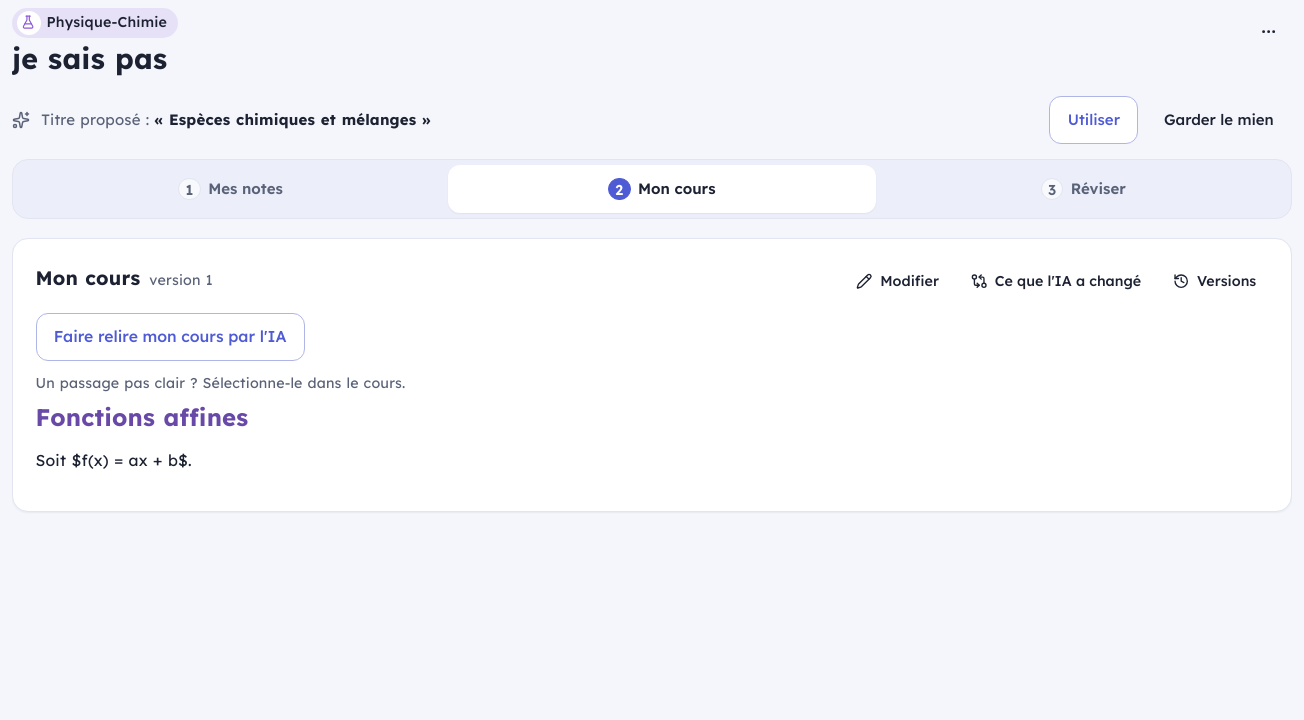
ChapterView › propose le titre trouvé par la mise au propre
Check: the message with class "title-proposal" shows "Espèces chimiques et mélanges", box [154, 110, 431, 129]
Step 1. Click the button with class "secondary" showing "Utiliser" → (1094, 120), box [1049, 96, 1138, 144]
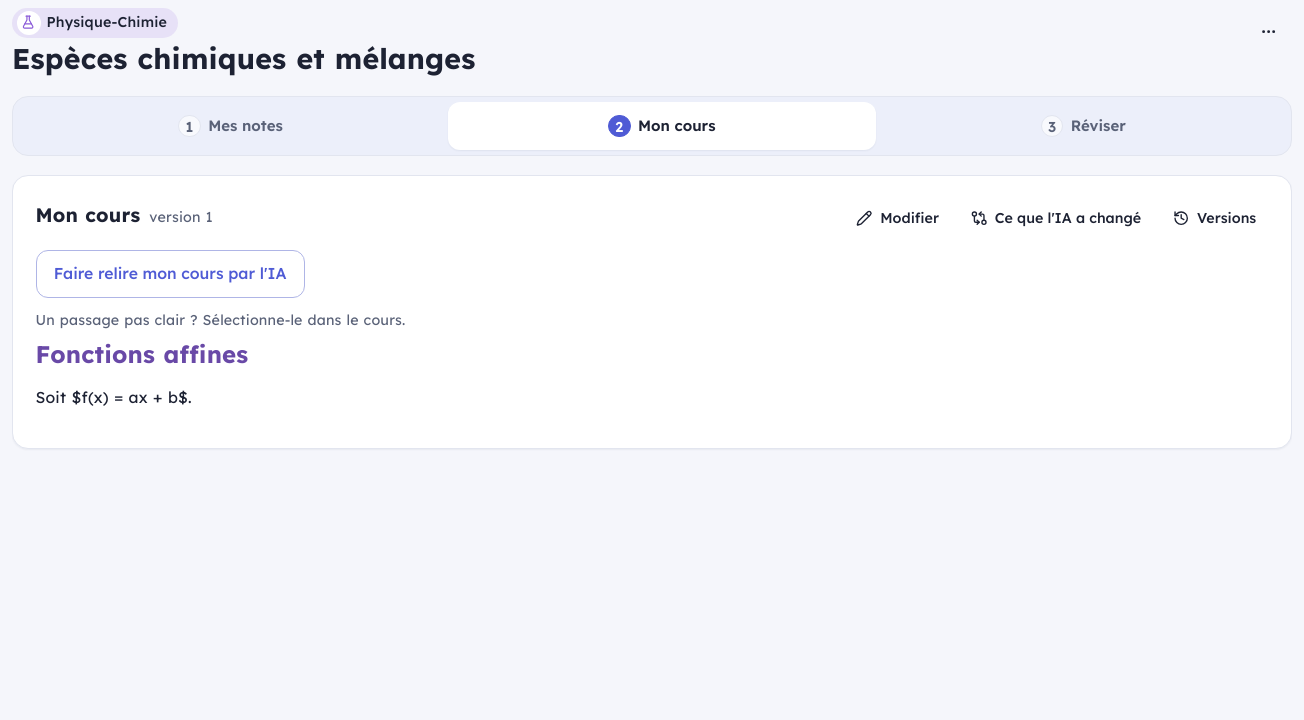
Check: the heading "Espèces chimiques et mélanges" is shown, box [12, 41, 476, 77]
